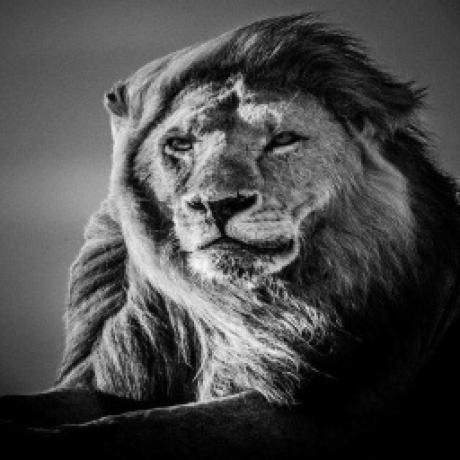Lion: (0, 12, 460, 460)
